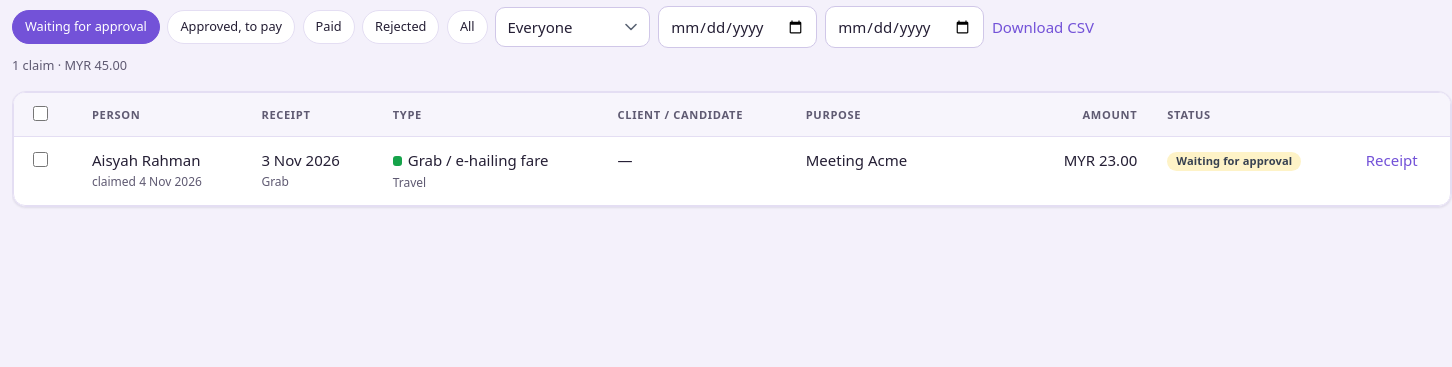
Test case: rejects only with a reason
Later steps or results of the test are not shown.
Click the checkbox named "Select Aisyah Rahman's Grab" at (40, 159), box [33,152,48,167]
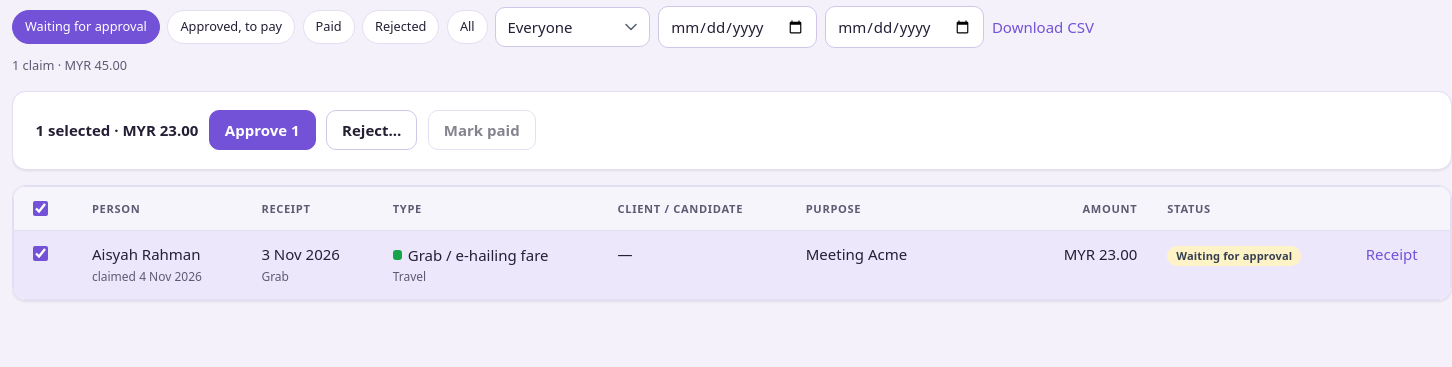
Click the button "Reject…" at (372, 130), box [326,110,417,150]
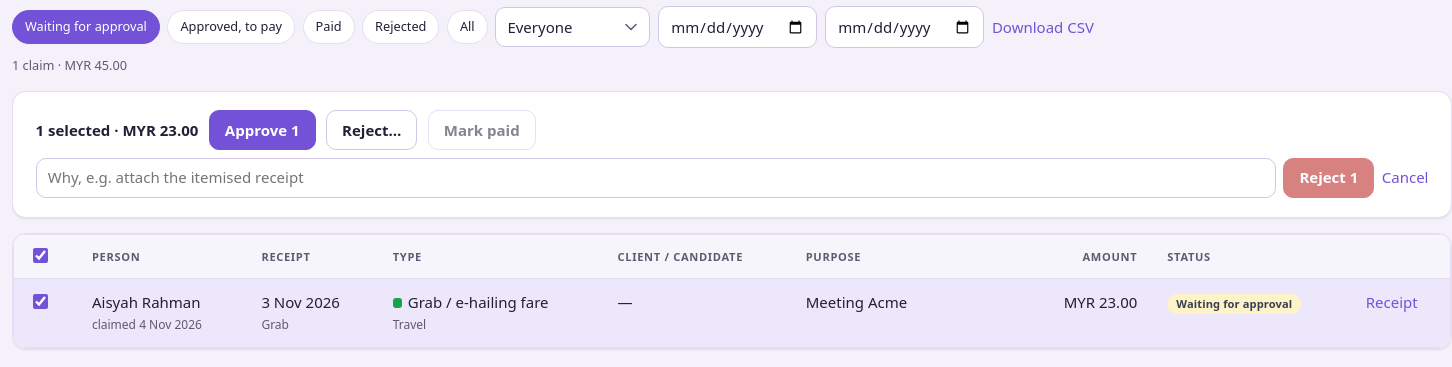
Now the button "Reject 1" is disabled, box [1283,158,1374,198]
